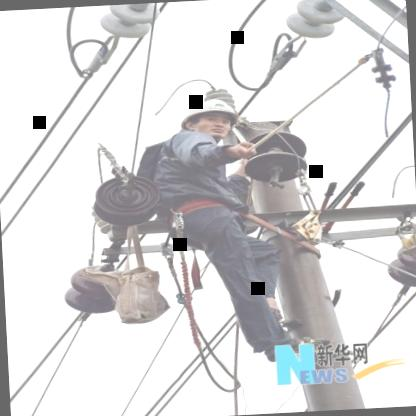helmet: (164, 84, 240, 144)
